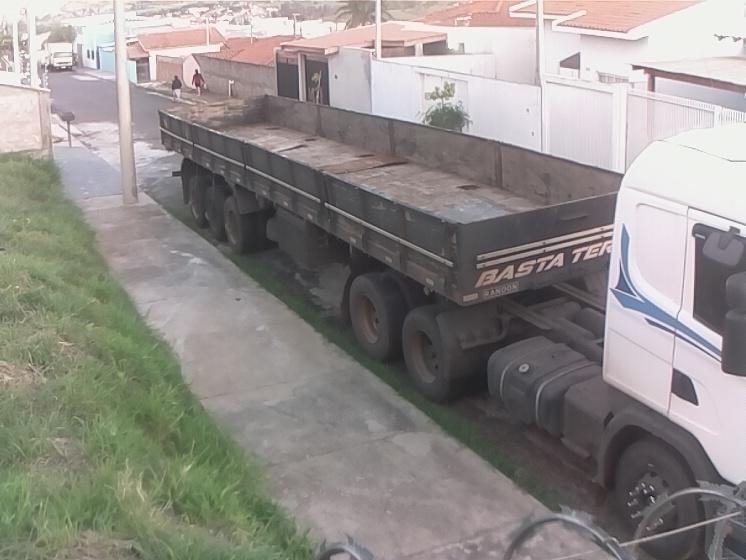person: (191, 67, 212, 97), (168, 72, 184, 104)
